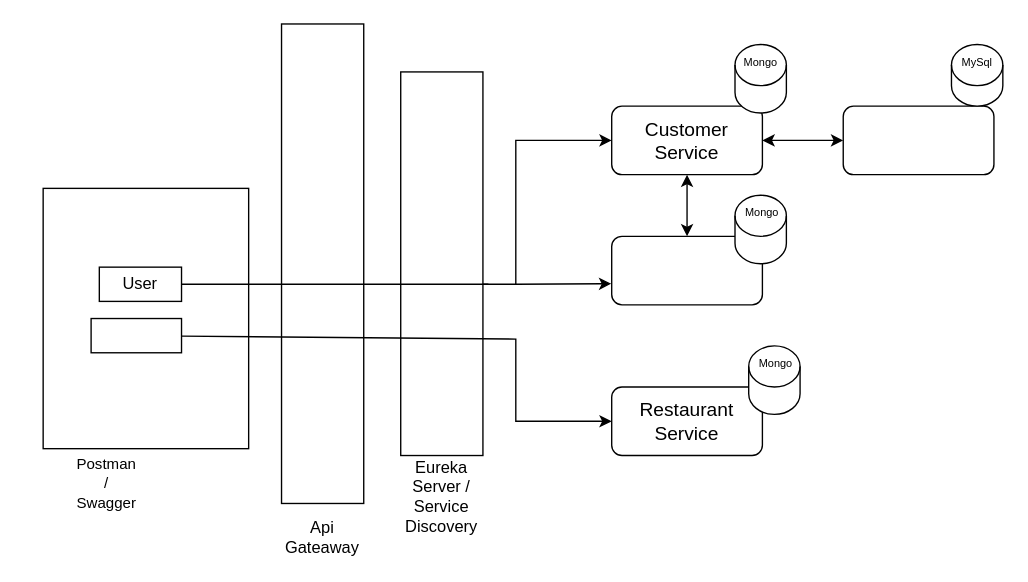
The diagram is 1028 pixels wide and 582 high, and some of its shapes have lost their labels. The shapes that lost their labels are listed below. From the top down, each one's box as (x1, y1, x2, y2) in pixels, then its label:
(842, 105, 994, 175): User Authentication
(610, 235, 762, 305): Order Service
(90, 317, 182, 353): Restaurant
